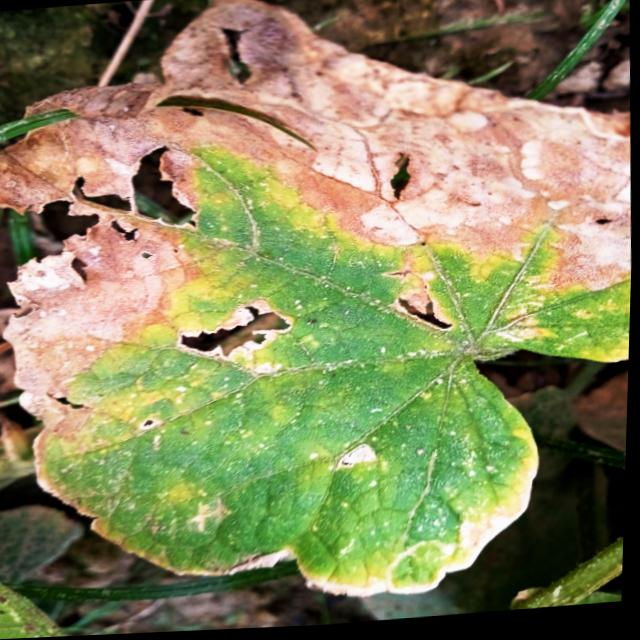Anthracnose: (60, 139, 198, 244), (174, 295, 296, 372), (389, 289, 455, 337), (213, 22, 255, 96), (386, 144, 419, 207), (65, 253, 94, 288)
